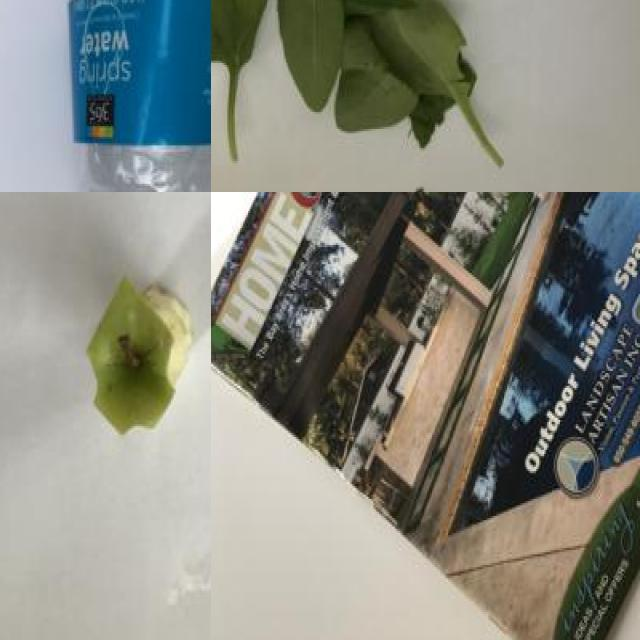compost: (211, 0, 530, 163), (80, 273, 202, 439)
paper: (211, 192, 640, 640)
plastic: (61, 0, 211, 192)
